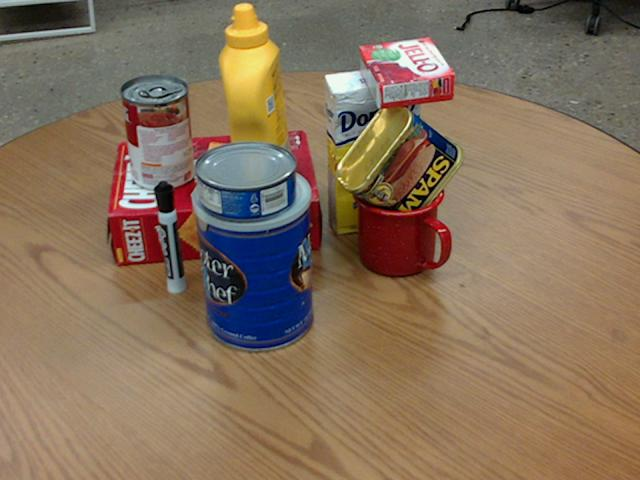cracker_box: (106, 133, 319, 265)
gelatin_box: (360, 38, 454, 107)
large_marker: (155, 182, 186, 294)
master_chef_can: (189, 160, 314, 350)
mug: (354, 168, 452, 277)
mustard_bottle: (219, 3, 294, 204)
potted_meat_can: (335, 101, 463, 229)
sugar_box: (325, 64, 421, 236)
tomato_soup_can: (119, 74, 193, 191)
tuna_fish_can: (194, 139, 296, 220)
